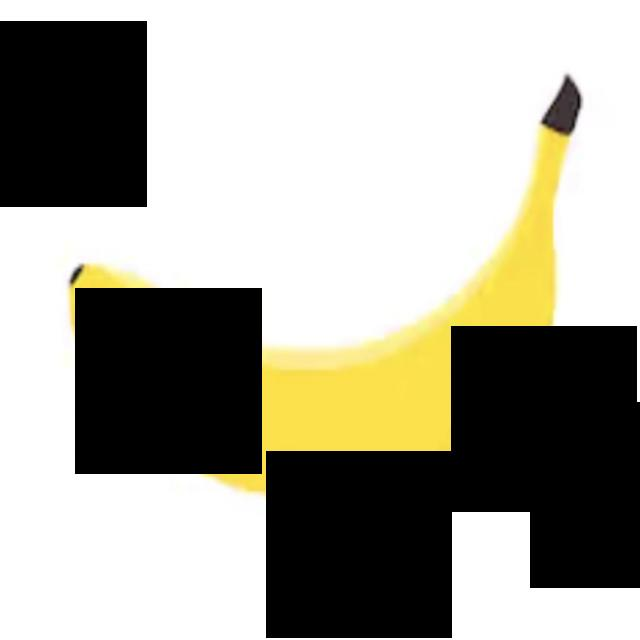banana: (47, 27, 587, 571)
